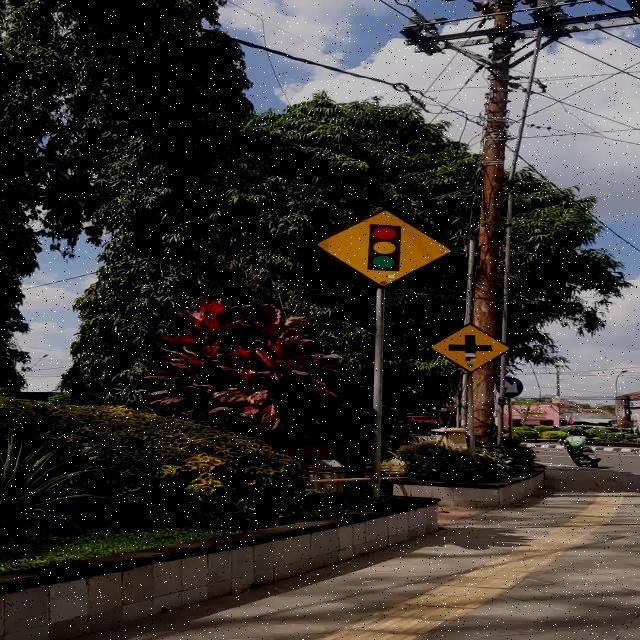Lampu Lalu Lintas: (311, 208, 454, 288)
